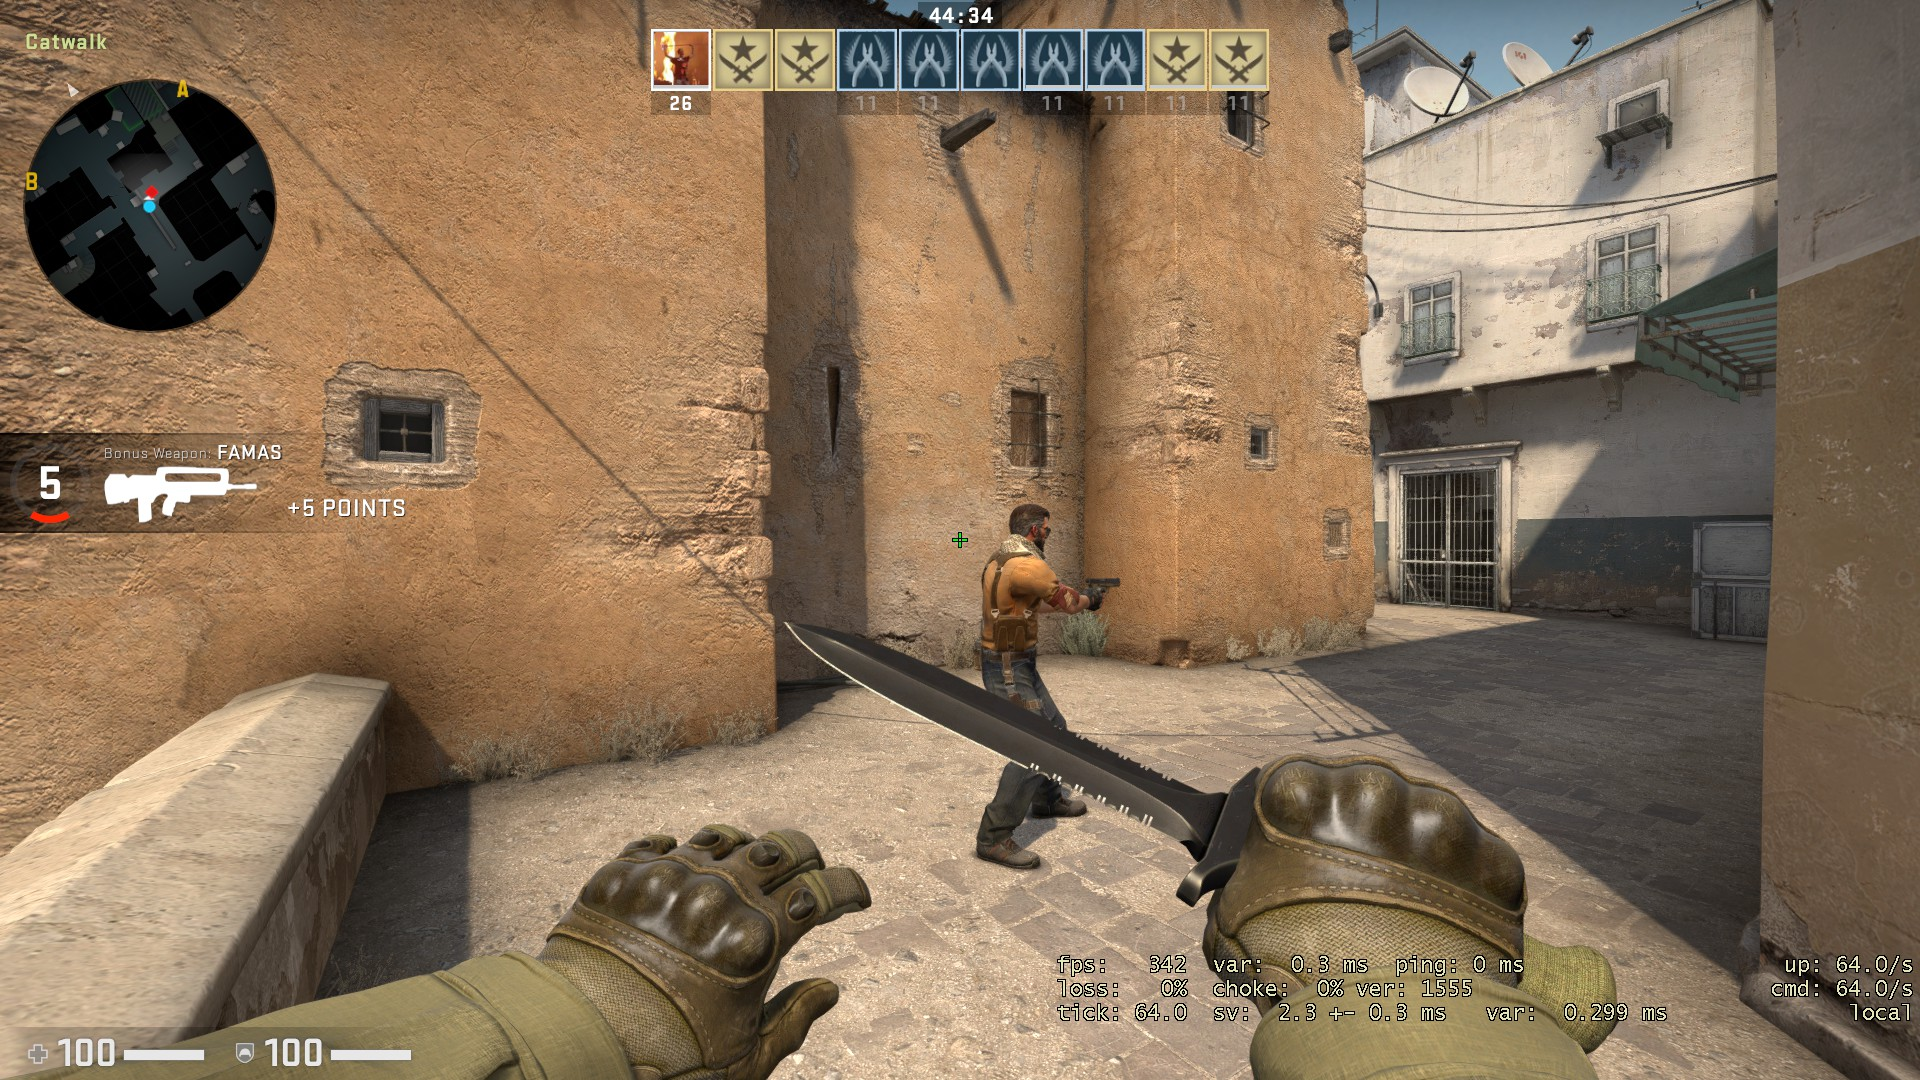player: (960, 498, 1126, 876)
